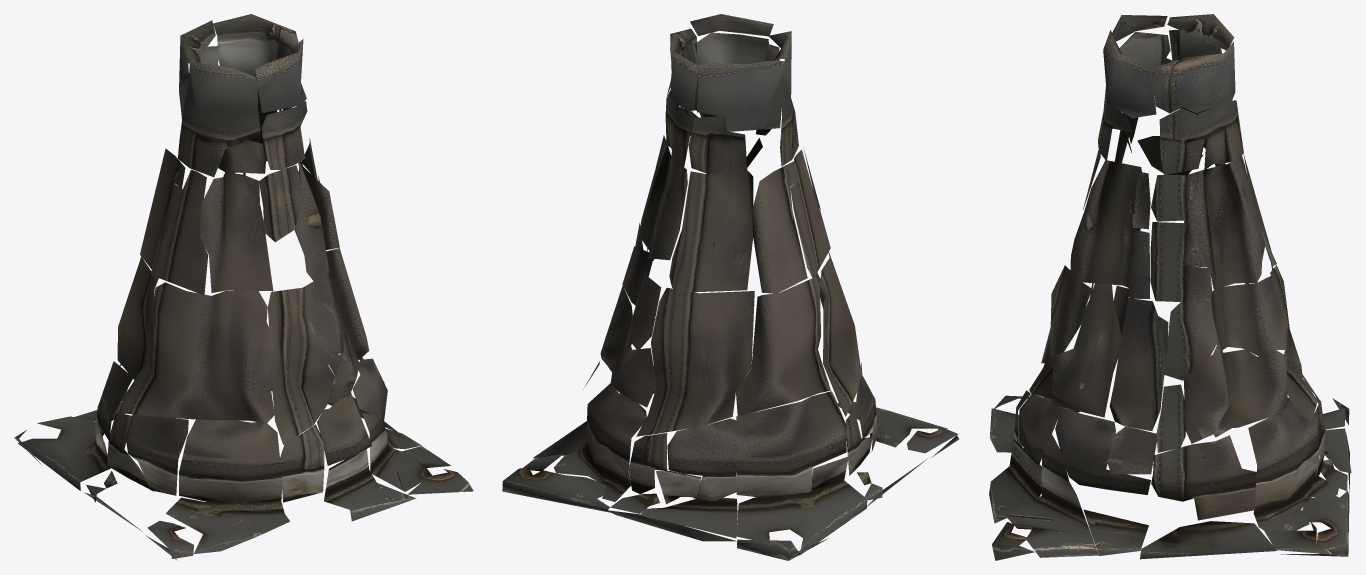
File: boot.glb
The picture shows the model from 3 angles, left to right: view 1: azimuth 30°, elevation 25°; view 2: azimuth 150°, elevation 25°; view 3: azimuth 270°, elevation 25°; orthographic projection. The views are drawn at different scales.
Visible parts, largest first — view 1: tripo_node_b8e26951-b97c-4fcf-b79f-9e9cddb244a6; view 2: tripo_node_b8e26951-b97c-4fcf-b79f-9e9cddb244a6; view 3: tripo_node_b8e26951-b97c-4fcf-b79f-9e9cddb244a6.
Part boxes in pixels (bbox=[...]): tripo_node_b8e26951-b97c-4fcf-b79f-9e9cddb244a6: bbox=[14, 14, 473, 560]; tripo_node_b8e26951-b97c-4fcf-b79f-9e9cddb244a6: bbox=[502, 14, 959, 560]; tripo_node_b8e26951-b97c-4fcf-b79f-9e9cddb244a6: bbox=[989, 14, 1351, 560].
Size of the model in its own units: 0.7328 by 0.9997 by 0.7316.
1 material, 1 textured.
